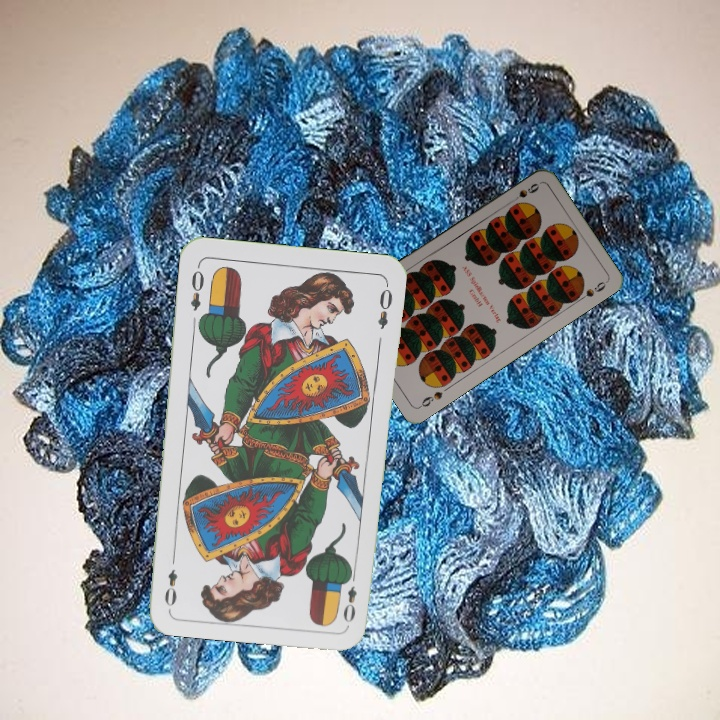EO: (339, 567, 360, 625), (187, 261, 207, 313)
S9: (506, 179, 542, 206), (415, 387, 445, 411)
